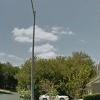Tree: (24, 47, 92, 100)
